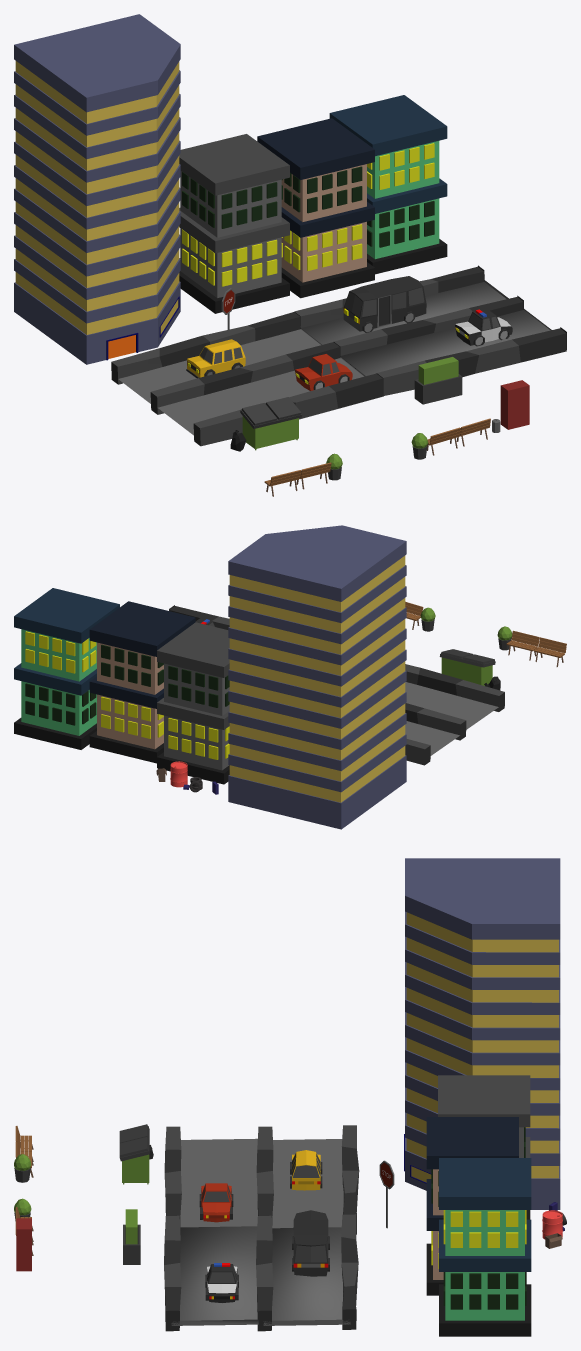
File: ch02_right.fbx
3 views of the same model, one above another, from view 1: azimuth 30°, elevation 25°; view 2: azimuth 150°, elevation 25°; view 3: azimuth 270°, elevation 25° (orthographic). The views are drawn at different scales.
Parts seen in each view (by area): view 1: Ch02_Left; view 2: Ch02_Left; view 3: Ch02_Left.
Boxes of the visible parts, x1,y1,x2,y2 form: Ch02_Left: [14, 14, 566, 496]; Ch02_Left: [14, 525, 566, 829]; Ch02_Left: [14, 858, 566, 1336].
Bounding box in the file's own units: 15.53 × 11.02 × 18.43.
